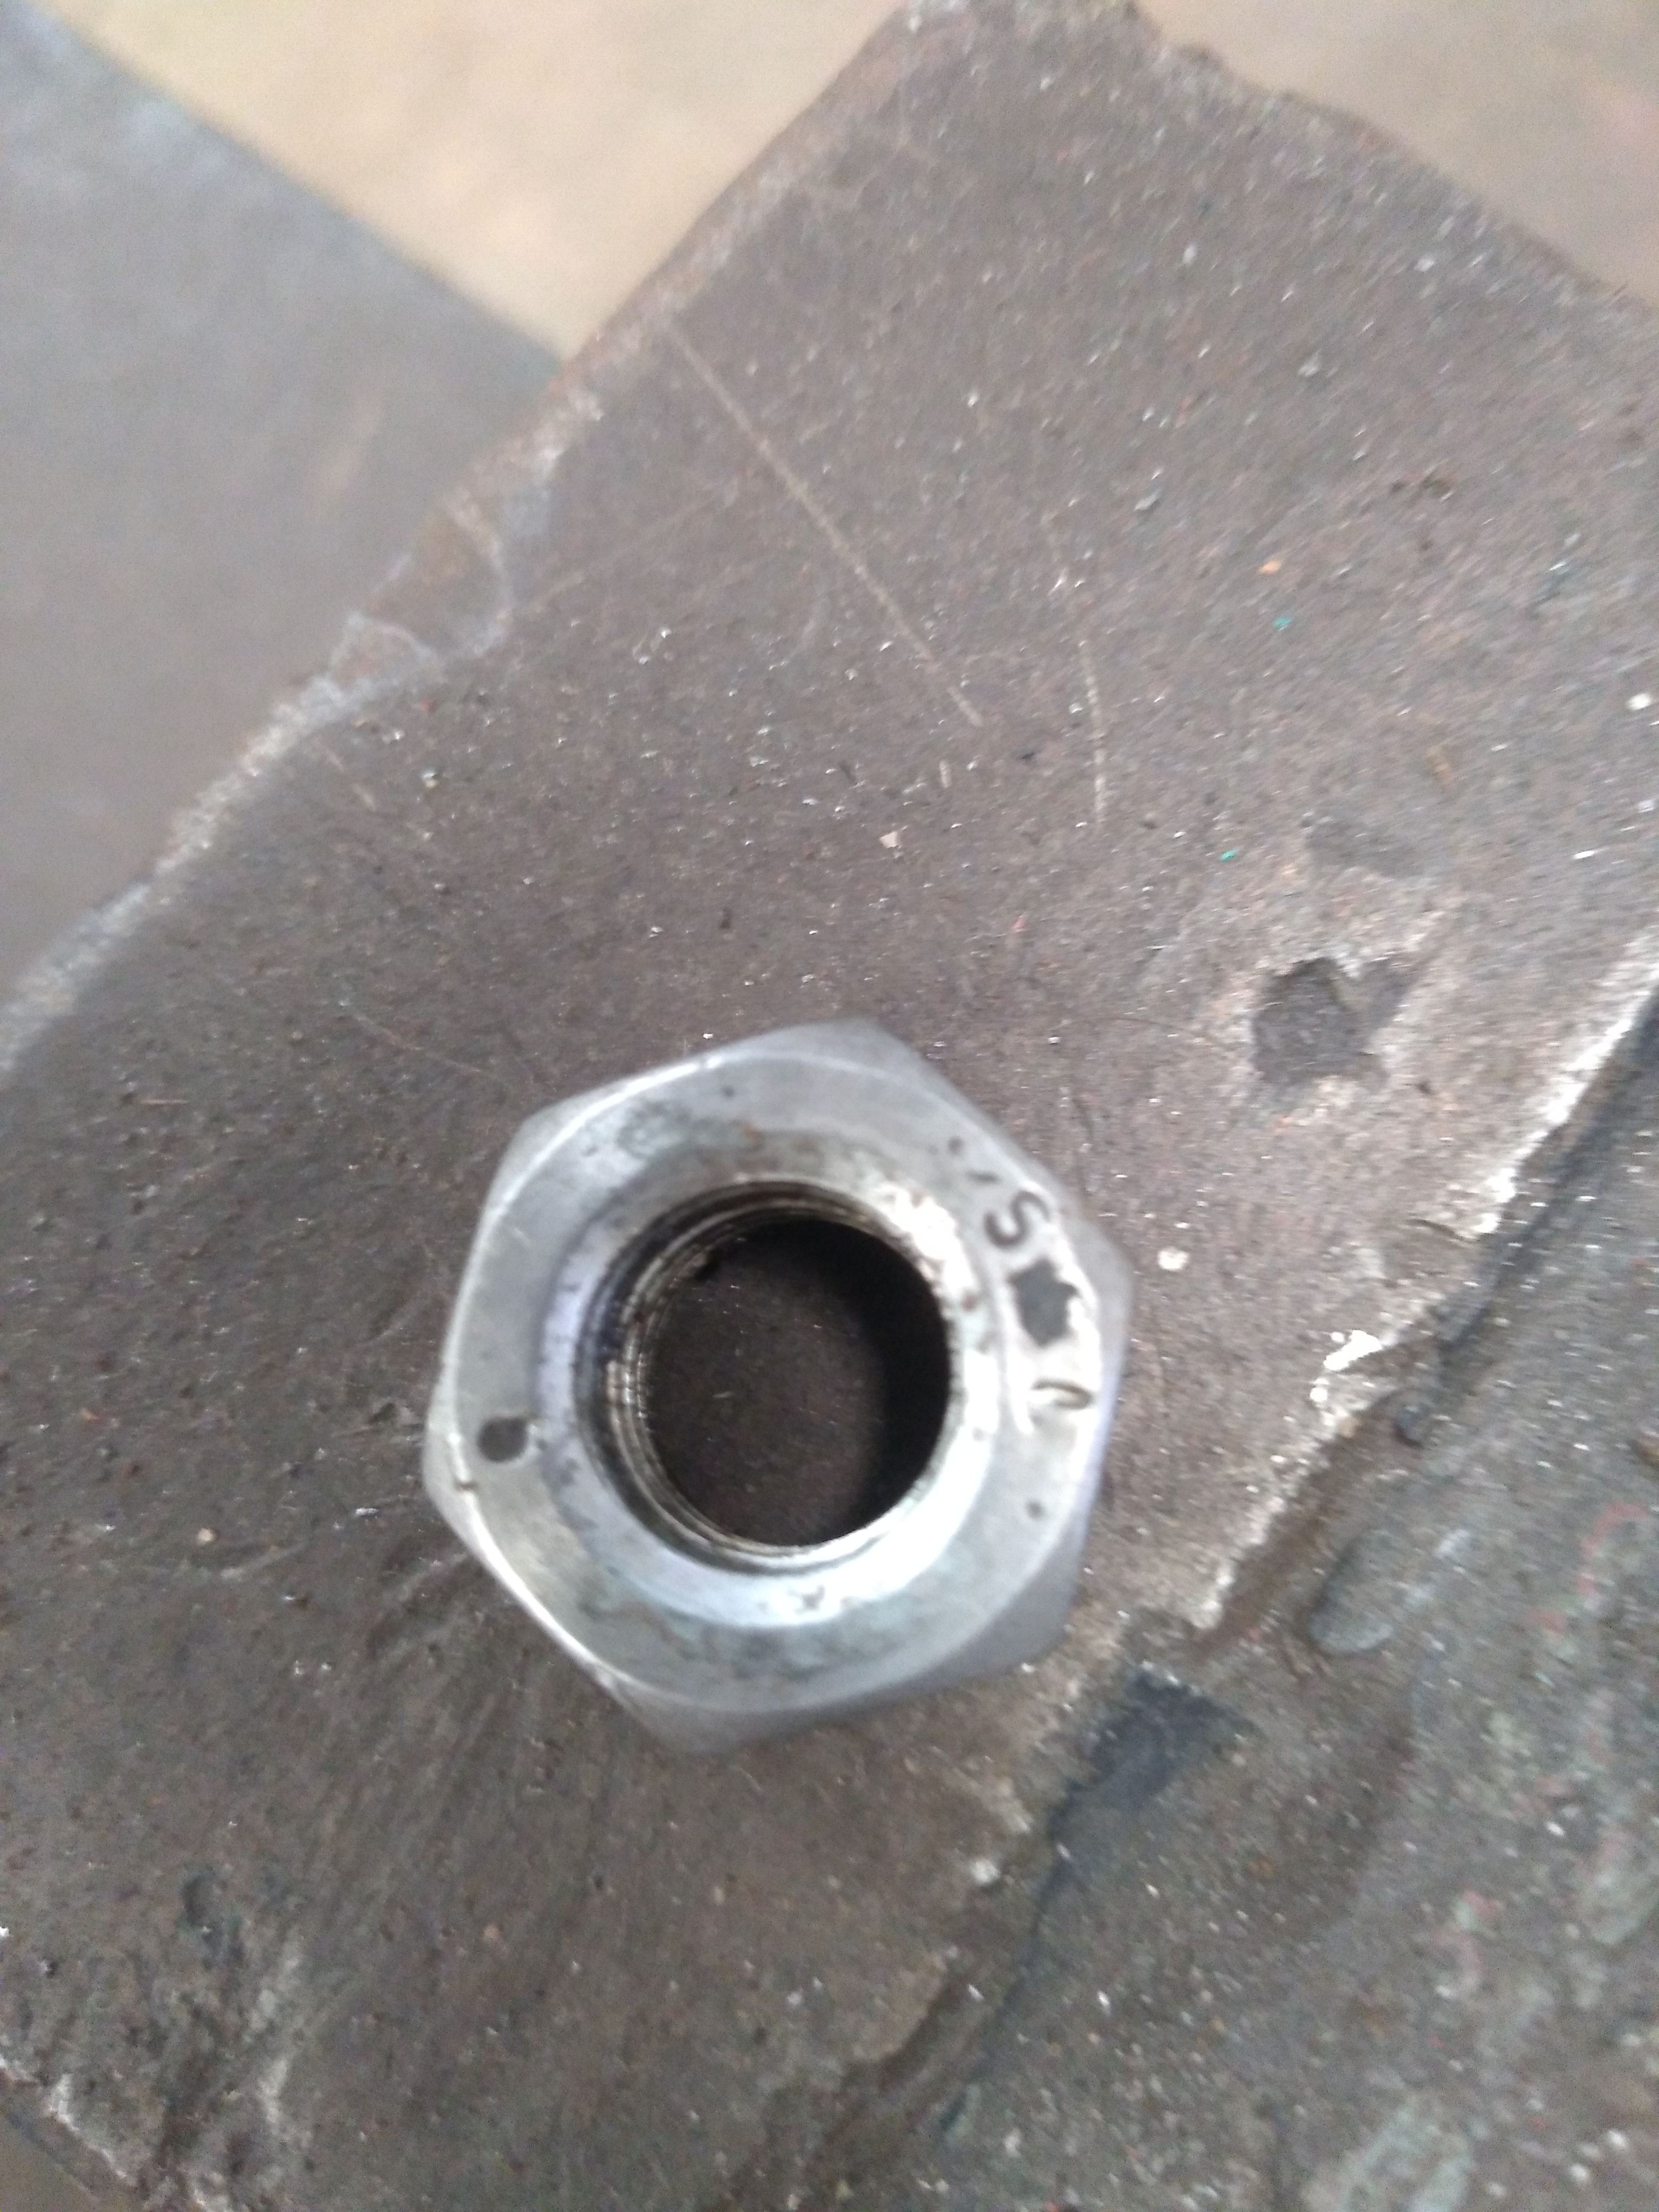Thread: (584, 1130, 1007, 1581)
